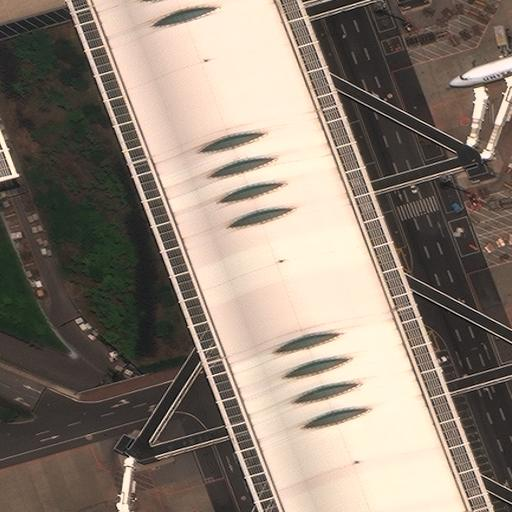Large Civil Transport: (447, 9, 512, 101)
